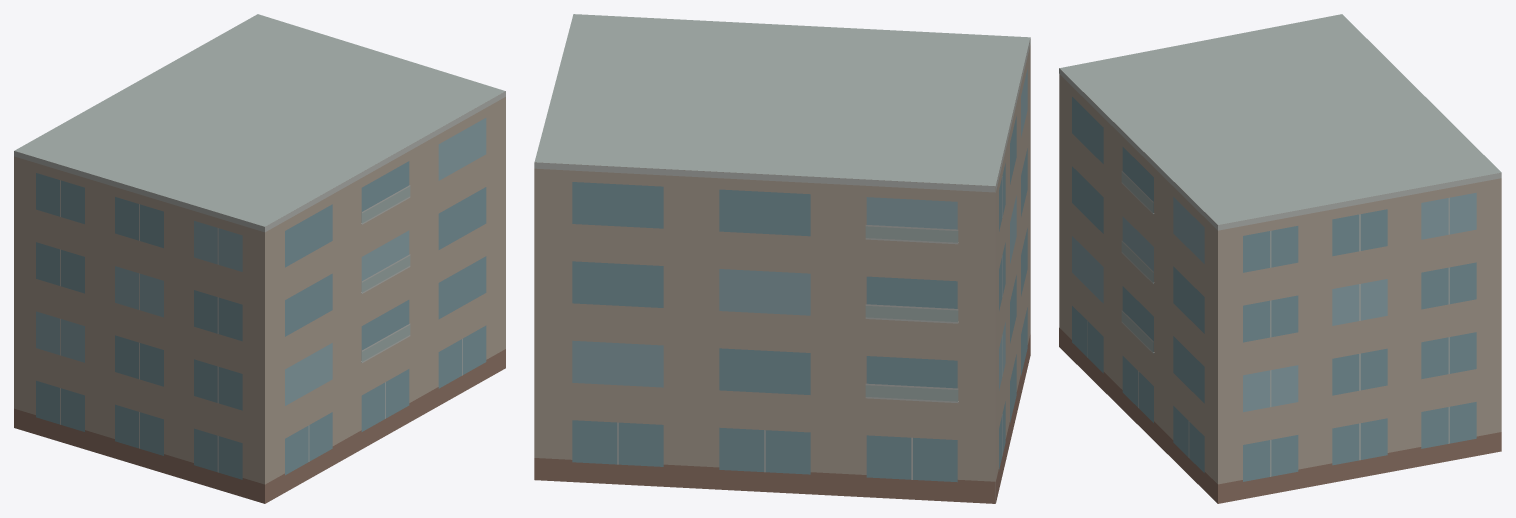
Rendered from survey-upis-32596129.glb.
3 views of the same model, side by side, from view 1: azimuth 30°, elevation 25°; view 2: azimuth 150°, elevation 25°; view 3: azimuth 270°, elevation 25° (orthographic). The views are drawn at different scales.
Parts seen in each view (by area): view 1: survey-upis-32596129.tmp; view 2: survey-upis-32596129.tmp; view 3: survey-upis-32596129.tmp.
Boxes of the visible parts, x1,y1,x2,y2 form: survey-upis-32596129.tmp: (14, 14, 505, 503); survey-upis-32596129.tmp: (534, 14, 1030, 503); survey-upis-32596129.tmp: (1059, 14, 1501, 503).
Bounding box in the file's own units: 19.83 × 12.2 × 17.56.
